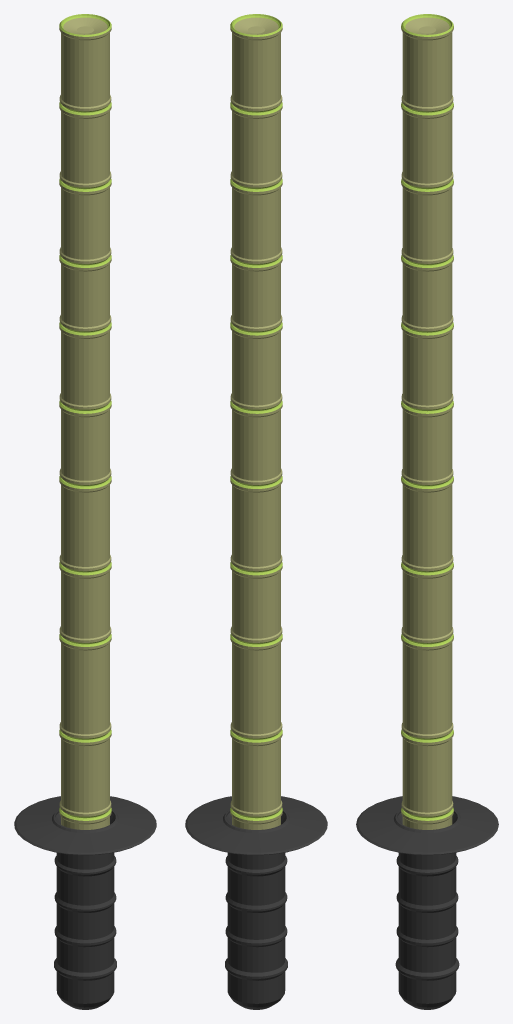
The model's file is Bamboo_Sword.fbx.
The picture shows the model from 3 angles, left to right: view 1: azimuth 30°, elevation 25°; view 2: azimuth 150°, elevation 25°; view 3: azimuth 270°, elevation 25°; orthographic projection.
Visible parts, largest first — view 1: Cylinder; view 2: Cylinder; view 3: Cylinder.
Boxes of the visible parts, x1=… form: Cylinder: x1=14, y1=14, x2=156, y2=1009; Cylinder: x1=185, y1=14, x2=327, y2=1009; Cylinder: x1=356, y1=14, x2=498, y2=1009.
Bounding box in the file's own units: 0.504 × 3.82 × 0.5044.
